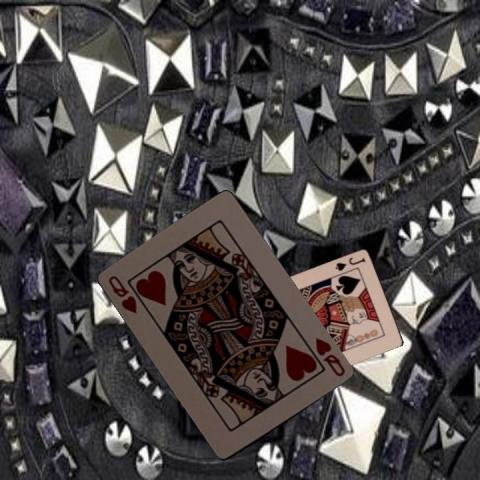Js: (332, 254, 367, 272)
Qh: (313, 334, 347, 379), (106, 272, 139, 315)
